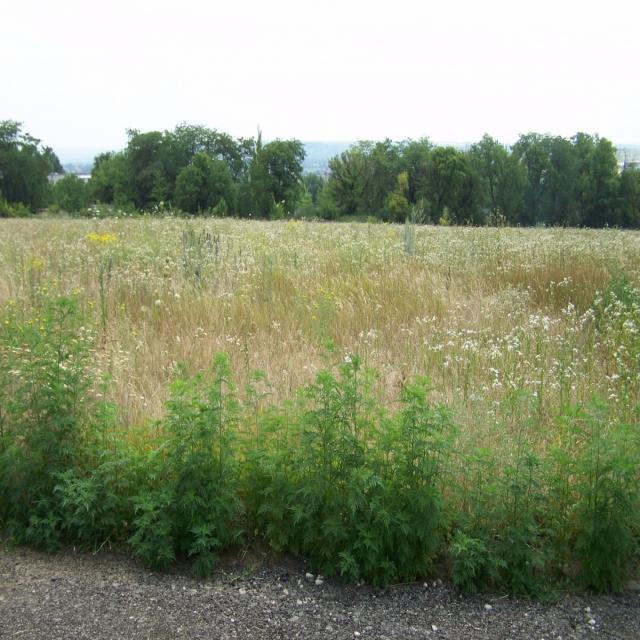ambrosia: (301, 329, 489, 587), (14, 306, 140, 556), (531, 376, 633, 607), (159, 340, 245, 594)
